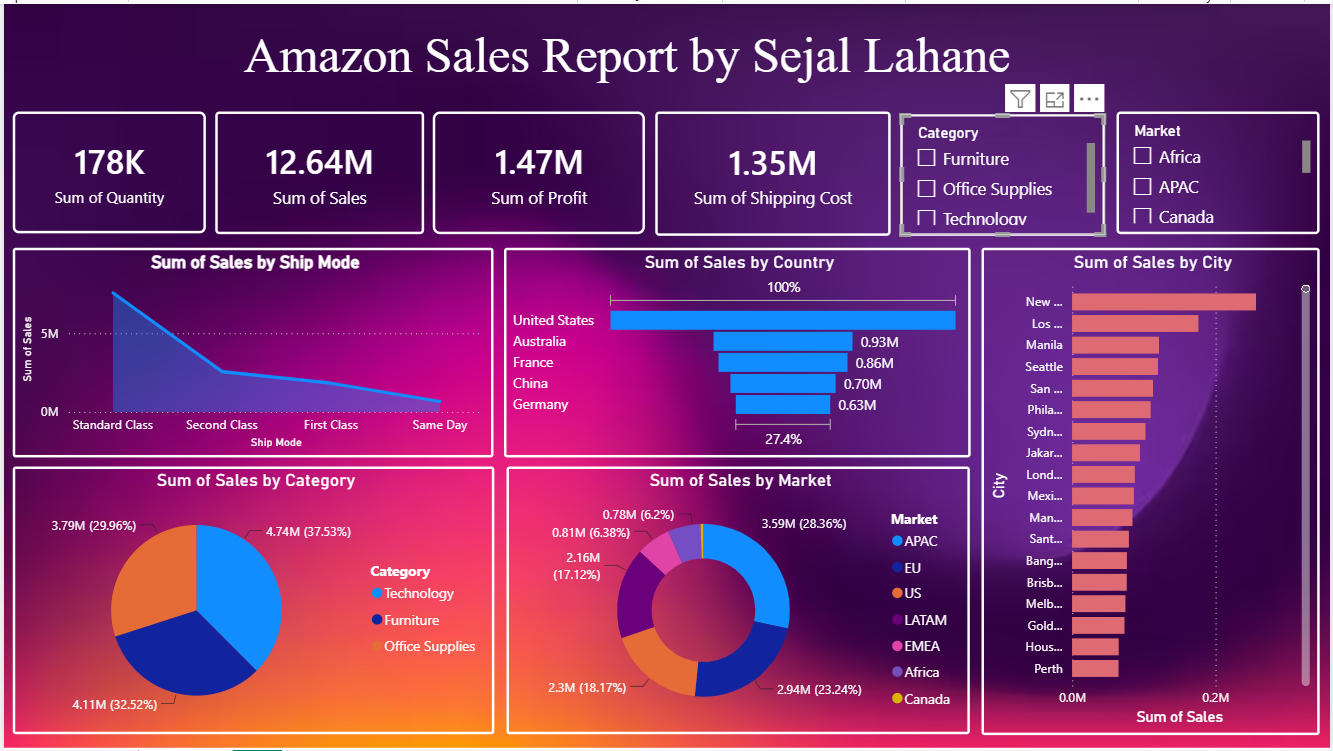

This screenshot's page, from the dashboard's own definition file:
{"tool":"powerbi","page":{"name":"Page 1","canvas":[1280,720],"ordinal":0},"visuals":[{"type":"clusteredBarChart","fields":{"Y":["Sum(Orders.Sales)"],"Category":["Orders.City"]},"box":[943.8,235,326.2,470],"z":0},{"type":"donutChart","fields":{"Category":["Orders.Market"],"Y":["Sum(Orders.Sales)"]},"box":[485,446.2,447.5,258.8],"z":1},{"type":"funnel","fields":{"Category":["Orders.Country"],"Y":["Sum(Orders.Sales)"]},"box":[482.5,235,450,202.5],"z":2},{"type":"pieChart","fields":{"Category":["Orders.Category"],"Y":["Sum(Orders.Sales)"]},"box":[8.8,446.2,465,258.8],"z":3},{"type":"areaChart","fields":{"Category":["Orders.Ship Mode"],"Y":["Sum(Orders.Sales)"]},"box":[8.8,235,463.8,202.5],"z":4},{"type":"cardVisual","fields":{"Data":["Sum(Orders.Quantity)"]},"box":[8.8,103.8,186.2,117.5],"z":5},{"type":"cardVisual","fields":{"Data":["Sum(Orders.Sales)"]},"box":[203.8,103.8,201.2,118.8],"z":6},{"type":"cardVisual","fields":{"Data":["Sum(Orders.Profit)"]},"box":[413.8,103.8,205,118.8],"z":7},{"type":"cardVisual","fields":{"Data":["Sum(Orders.Shipping Cost)"]},"box":[628.8,103.8,227.5,120],"z":8},{"type":"slicer","fields":{"Values":["Orders.Category"]},"box":[865,106.2,197.5,117.5],"z":9},{"type":"slicer","fields":{"Values":["Orders.Market"]},"box":[1073.8,103.8,196.2,118.8],"z":10},{"type":"textbox","box":[140,17.5,922.5,73.8],"z":11}]}

Visuals, with their boxes in screenshot pixels (x1, y1, x2, y2), scaled from the page's 1280x720 canvas onto the 1333x751 screenshot:
clusteredBarChart - Sum(Orders.Sales) x Orders.City: rect(983, 245, 1323, 735)
donutChart - Orders.Market x Sum(Orders.Sales): rect(505, 465, 971, 735)
funnel - Orders.Country x Sum(Orders.Sales): rect(502, 245, 971, 456)
pieChart - Orders.Category x Sum(Orders.Sales): rect(9, 465, 493, 735)
areaChart - Orders.Ship Mode x Sum(Orders.Sales): rect(9, 245, 492, 456)
cardVisual - Sum(Orders.Quantity): rect(9, 108, 203, 231)
cardVisual - Sum(Orders.Sales): rect(212, 108, 422, 232)
cardVisual - Sum(Orders.Profit): rect(431, 108, 644, 232)
cardVisual - Sum(Orders.Shipping Cost): rect(655, 108, 892, 233)
slicer - Orders.Category: rect(901, 111, 1106, 233)
slicer - Orders.Market: rect(1118, 108, 1323, 232)
textbox: rect(146, 18, 1106, 95)
